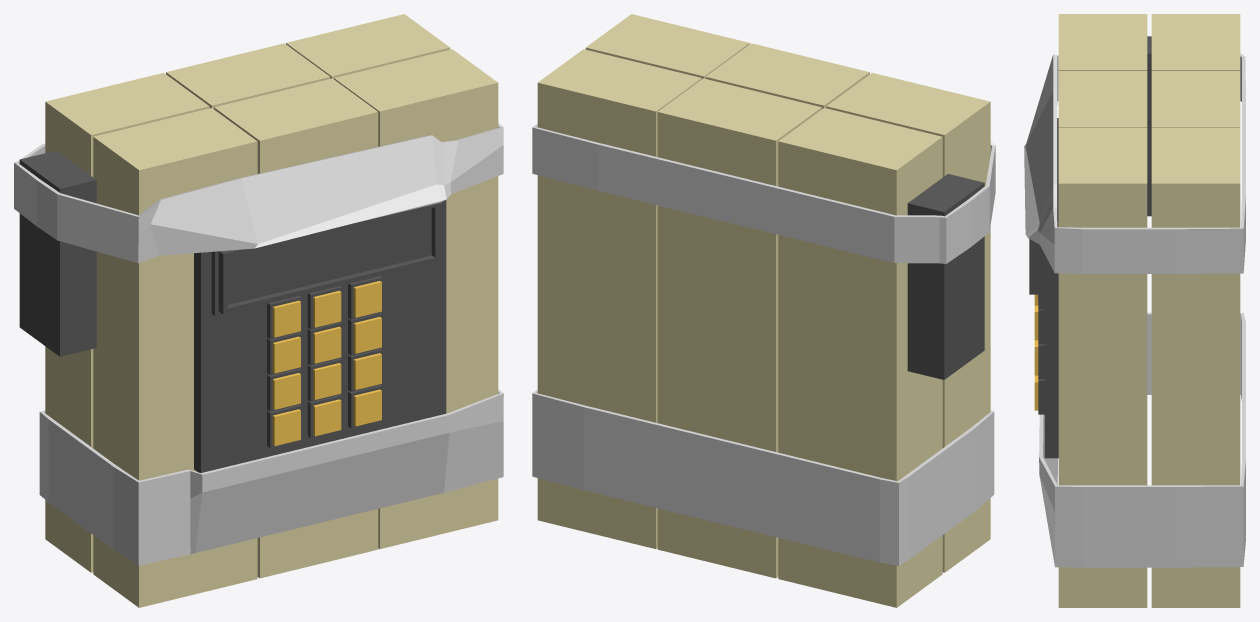
File: breach.fbx
The picture shows the model from 3 angles, left to right: view 1: azimuth 30°, elevation 25°; view 2: azimuth 150°, elevation 25°; view 3: azimuth 270°, elevation 25°; orthographic projection. The views are drawn at different scales.
Visible parts, largest first — view 1: Cube; view 2: Cube; view 3: Cube.
Boxes of the visible parts, x1=… form: Cube: x1=14, y1=14, x2=503, y2=607; Cube: x1=532, y1=14, x2=995, y2=607; Cube: x1=1024, y1=14, x2=1245, y2=607.
Bounding box in the file's own units: 0.8254 × 0.8515 × 0.4034.
